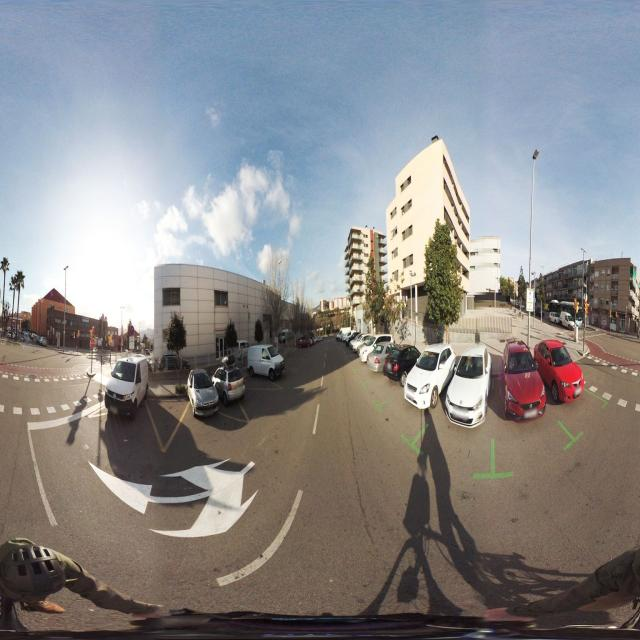forb_stopping: (129, 326, 135, 336), (100, 331, 103, 338)
